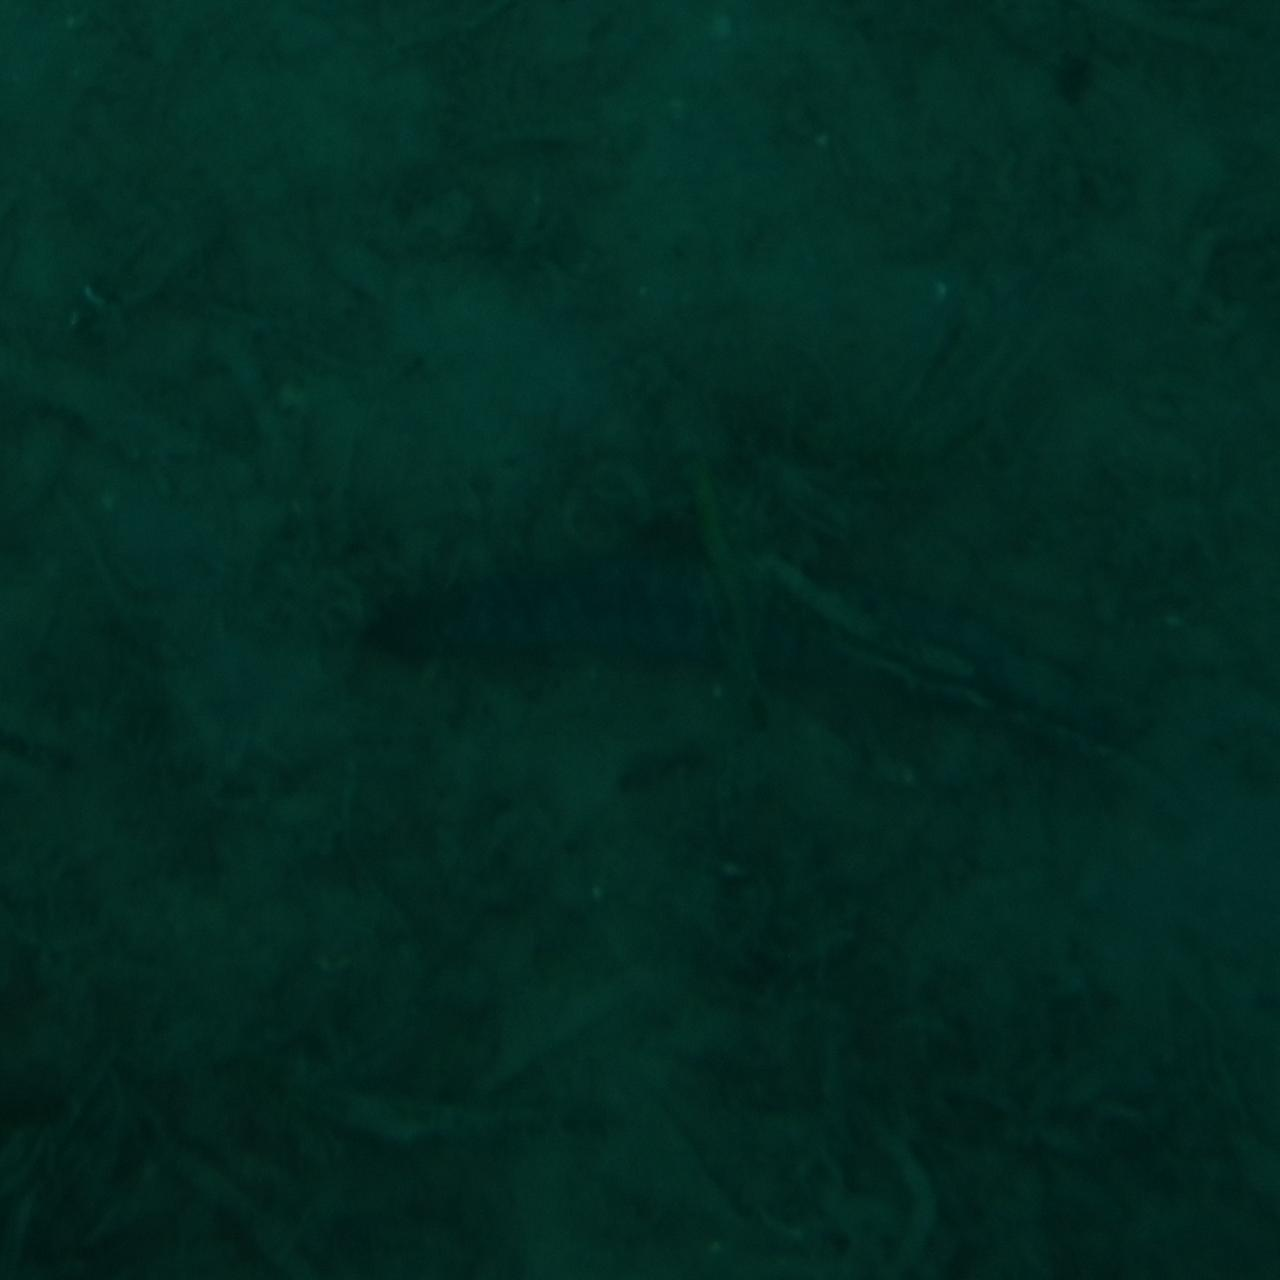Holothuria tubulosa: (322, 550, 958, 730)
